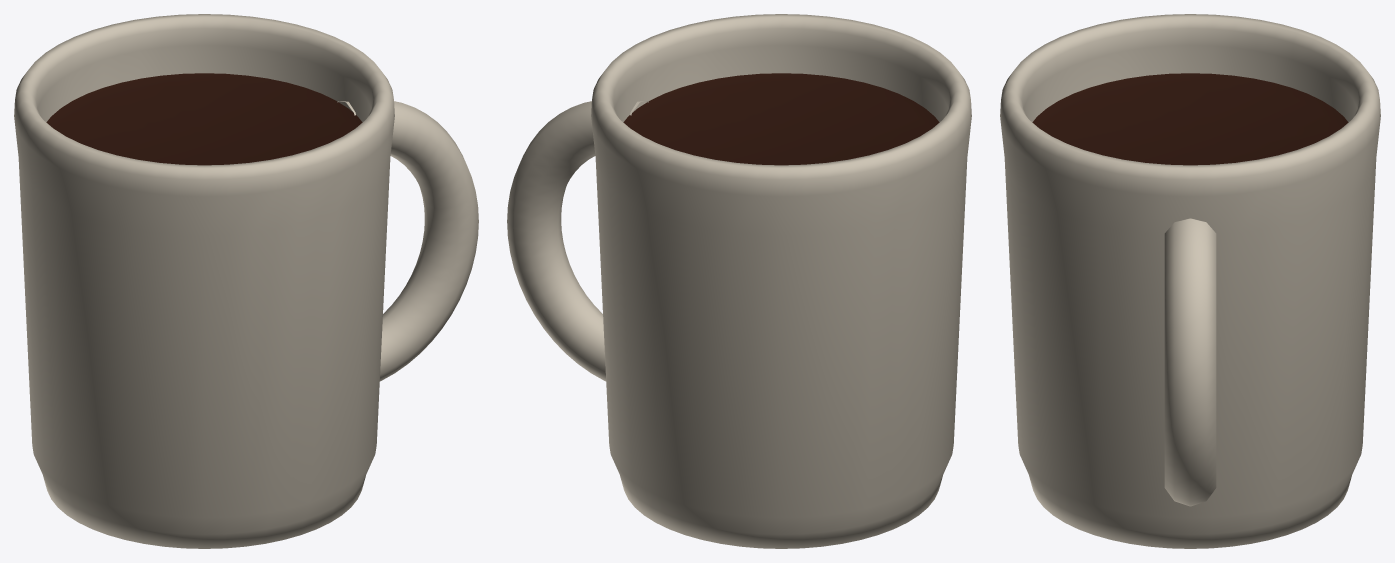
Rendered from coffee_mug.glb.
The picture shows the model from 3 angles, left to right: view 1: azimuth 30°, elevation 25°; view 2: azimuth 150°, elevation 25°; view 3: azimuth 270°, elevation 25°; orthographic projection.
Visible parts, largest first — view 1: coffee_mug; view 2: coffee_mug; view 3: coffee_mug.
Part boxes in pixels (<box>): coffee_mug: <box>14,14,478,548</box>; coffee_mug: <box>507,14,971,548</box>; coffee_mug: <box>1000,14,1380,548</box>.
Size of the model in its own units: 0.111 by 0.095 by 0.084.
